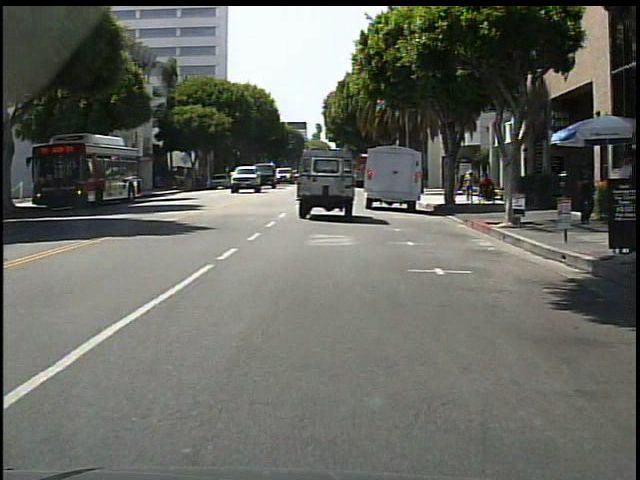person: (606, 149, 636, 254), (576, 168, 597, 226), (465, 168, 478, 204), (452, 164, 463, 204)
